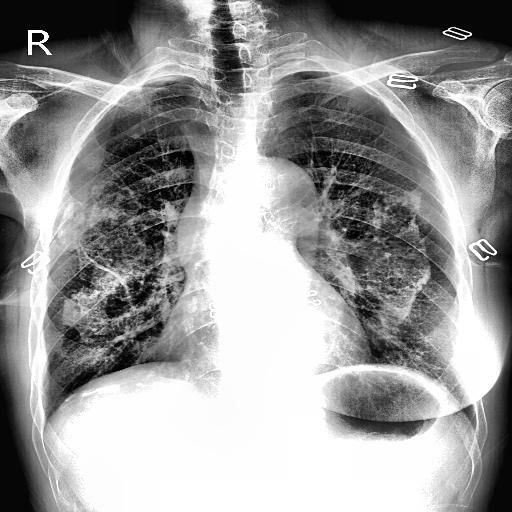0- Aortic enlargement: (176, 156, 321, 280), (242, 158, 320, 232), (244, 157, 322, 216)
11- Pleural thickening: (46, 192, 180, 350), (352, 190, 432, 342), (62, 376, 168, 404), (132, 74, 192, 86), (136, 72, 188, 84)
13- Pulmonary fibrosis: (74, 238, 144, 311), (74, 236, 138, 304)
2- Calcification: (62, 376, 168, 404)
7- Lung Opacity: (353, 186, 433, 332), (364, 192, 428, 344), (59, 261, 139, 346), (60, 277, 134, 343), (174, 108, 218, 202), (57, 200, 109, 248), (56, 196, 94, 252)
9- Other lesion: (60, 277, 134, 343), (57, 200, 109, 248)
